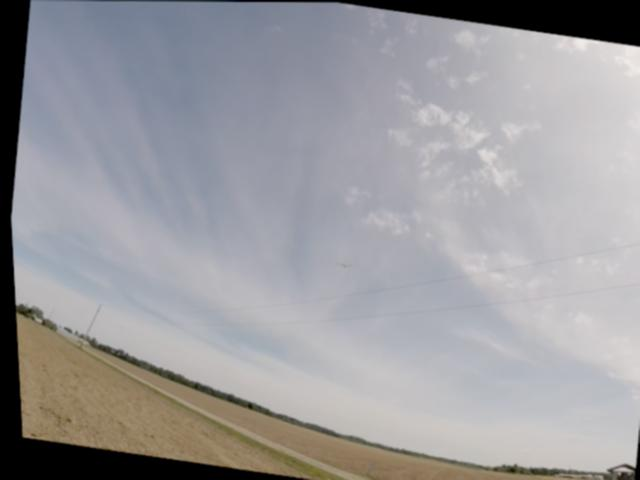plane: (334, 262, 349, 270)
